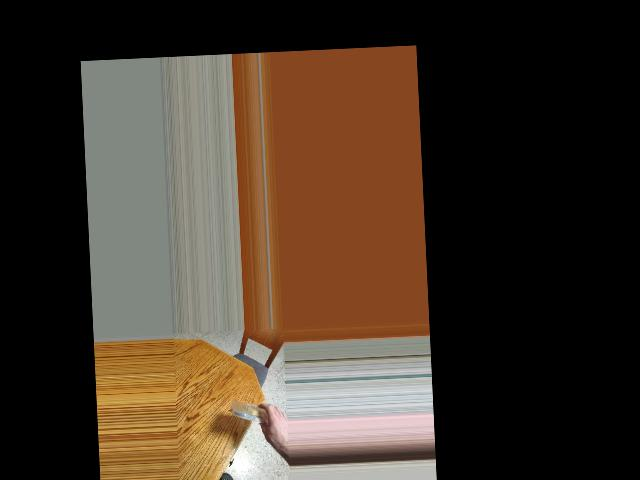cheese: (235, 396, 268, 426)
